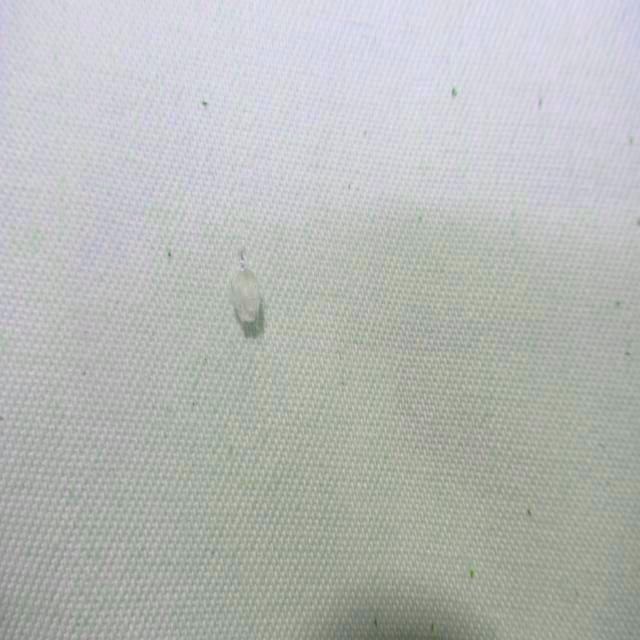stains: (148, 176, 370, 452)
